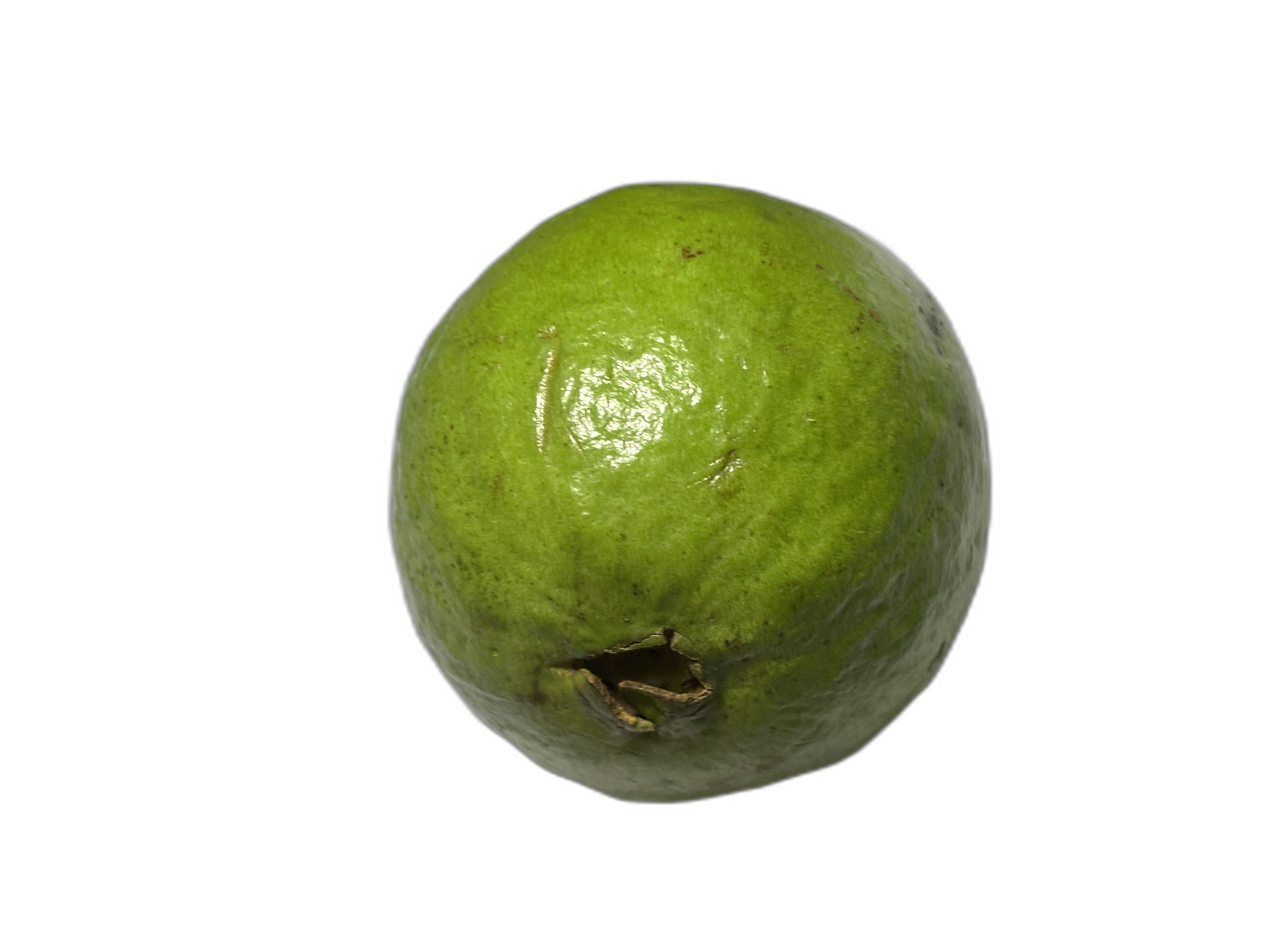guava: (334, 76, 1147, 932)
